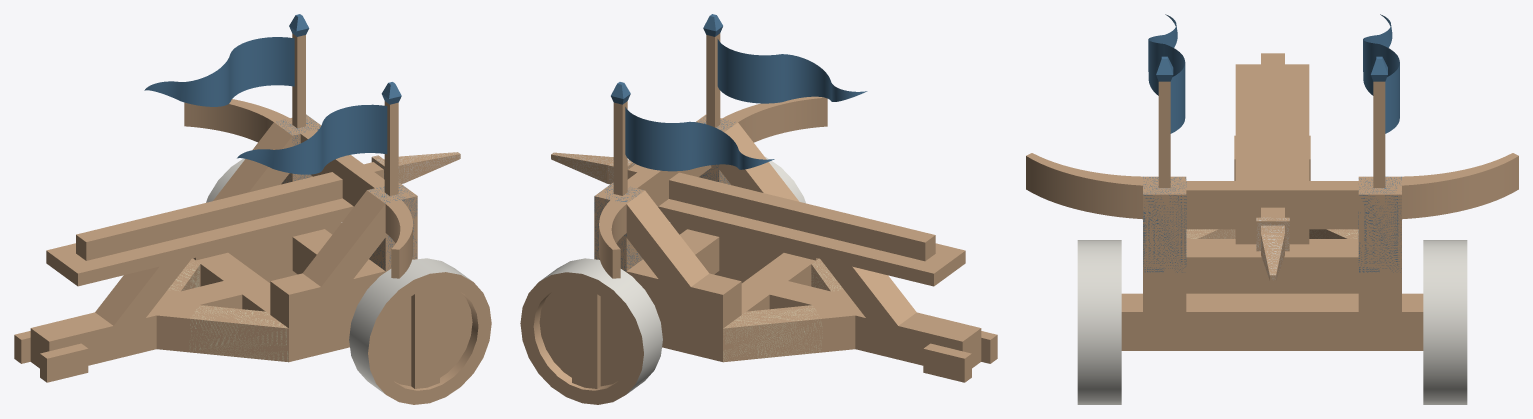
File: siegeBallista.obj
3 renders of one model, left to right at view 1: azimuth 30°, elevation 25°; view 2: azimuth 150°, elevation 25°; view 3: azimuth 270°, elevation 25°, orthographic. The views are drawn at different scales.
Parts seen in each view (by area): view 1: body 5, wheelFrontRight 10, arrow 2, flag 20, flag 21, wheelFrontLeft 10; view 2: body 5, wheelFrontLeft 10, arrow 2, flag 21, flag 20, wheelFrontRight 10; view 3: body 5, wheelFrontLeft 10, wheelFrontRight 10, arrow 2, flag 20, flag 21.
Part boxes in pixels (<box>): body 5: <box>14,99,417,382</box>; wheelFrontRight 10: <box>349,258,491,404</box>; arrow 2: <box>76,152,460,260</box>; flag 20: <box>237,82,401,195</box>; flag 21: <box>144,14,309,128</box>; wheelFrontLeft 10: <box>206,158,341,282</box>; body 5: <box>594,96,997,382</box>; wheelFrontLeft 10: <box>520,258,662,404</box>; arrow 2: <box>551,152,935,261</box>; flag 21: <box>611,82,774,195</box>; flag 20: <box>703,14,867,127</box>; wheelFrontRight 10: <box>670,157,805,282</box>; body 5: <box>1026,64,1518,350</box>; wheelFrontLeft 10: <box>1423,240,1467,404</box>; wheelFrontRight 10: <box>1077,240,1121,404</box>; arrow 2: <box>1256,53,1289,280</box>; flag 20: <box>1148,14,1185,187</box>; flag 21: <box>1363,14,1399,187</box>.
Size of the model in its own units: 13.96 by 9.1 by 11.98.
